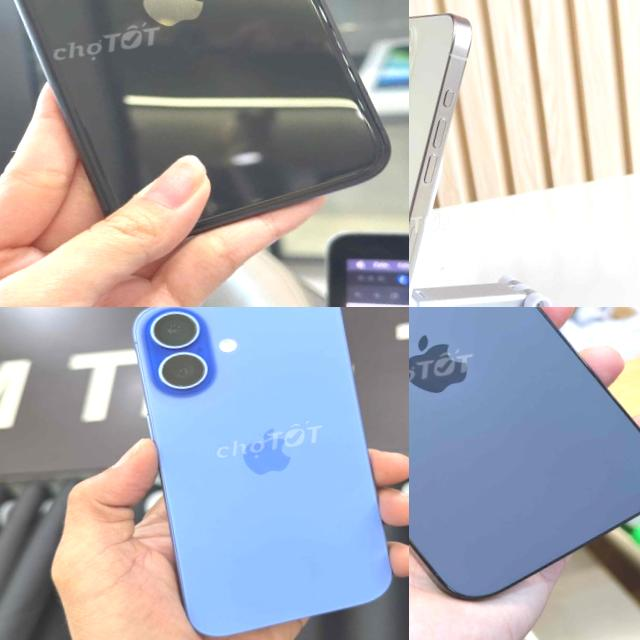gen_11: (0, 0, 409, 250)
gen_14: (409, 307, 640, 640)
gen_15: (409, 0, 531, 307)
gen_16: (133, 307, 391, 636)
